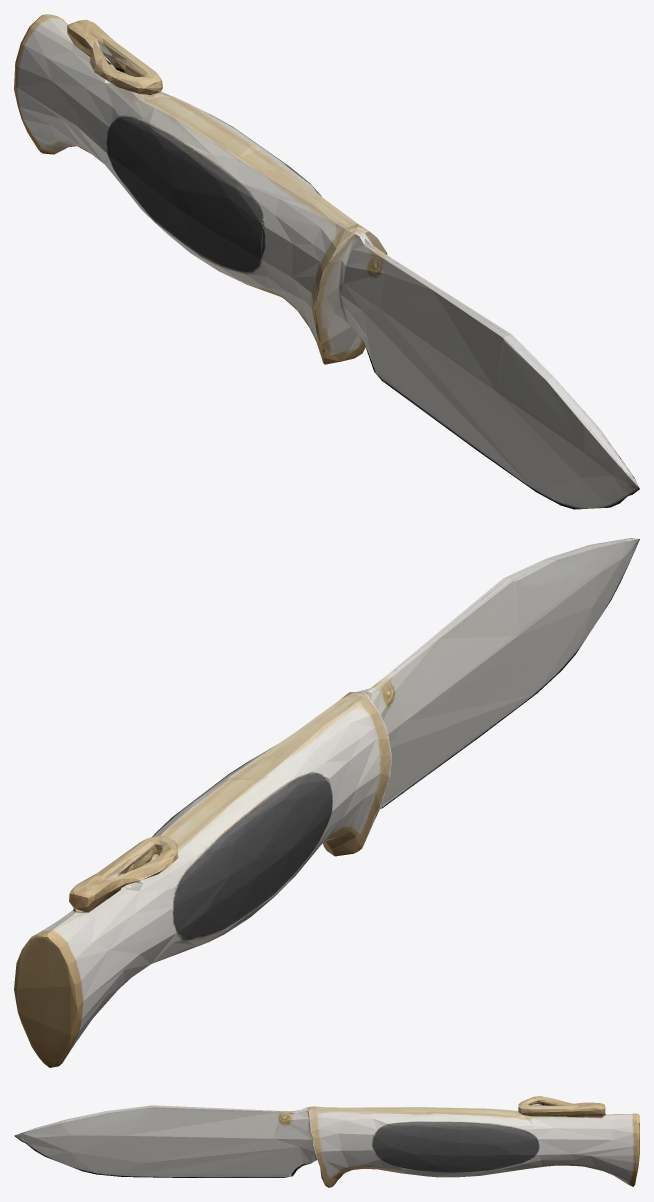
The model's file is white_knife.glb.
3 renders of one model, top to bottom at view 1: azimuth 30°, elevation 25°; view 2: azimuth 150°, elevation 25°; view 3: azimuth 270°, elevation 25°, orthographic. The views are drawn at different scales.
Visible parts, largest first — view 1: geometry_0; view 2: geometry_0; view 3: geometry_0.
Part boxes in pixels (x1=…): geometry_0: x1=14, y1=14, x2=639, y2=509; geometry_0: x1=14, y1=538, x2=639, y2=1067; geometry_0: x1=14, y1=1096, x2=639, y2=1187.
Bounding box in the file's own units: 0.079 × 0.1441 × 0.9927.
Materials: 1 (1 with a texture image).
